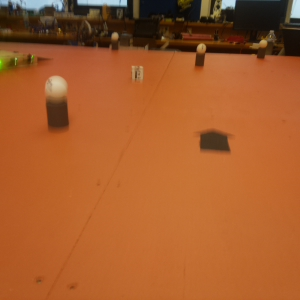blockE: (130, 64, 146, 85)
obstacle: (43, 75, 71, 134), (196, 44, 209, 70), (256, 38, 268, 61), (111, 32, 119, 53)
side: (1, 55, 39, 70)
slope: (37, 56, 55, 64)
start: (192, 127, 236, 156)
